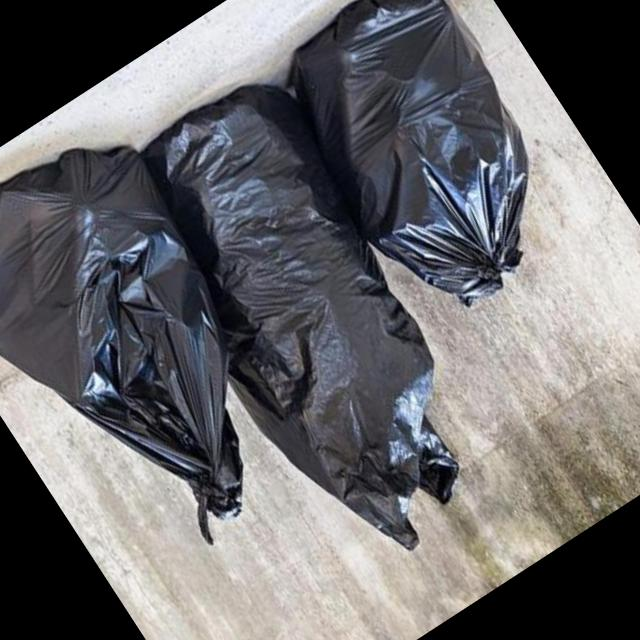KantongPlastik: (98, 77, 521, 578), (0, 110, 342, 591), (271, 0, 600, 325)
